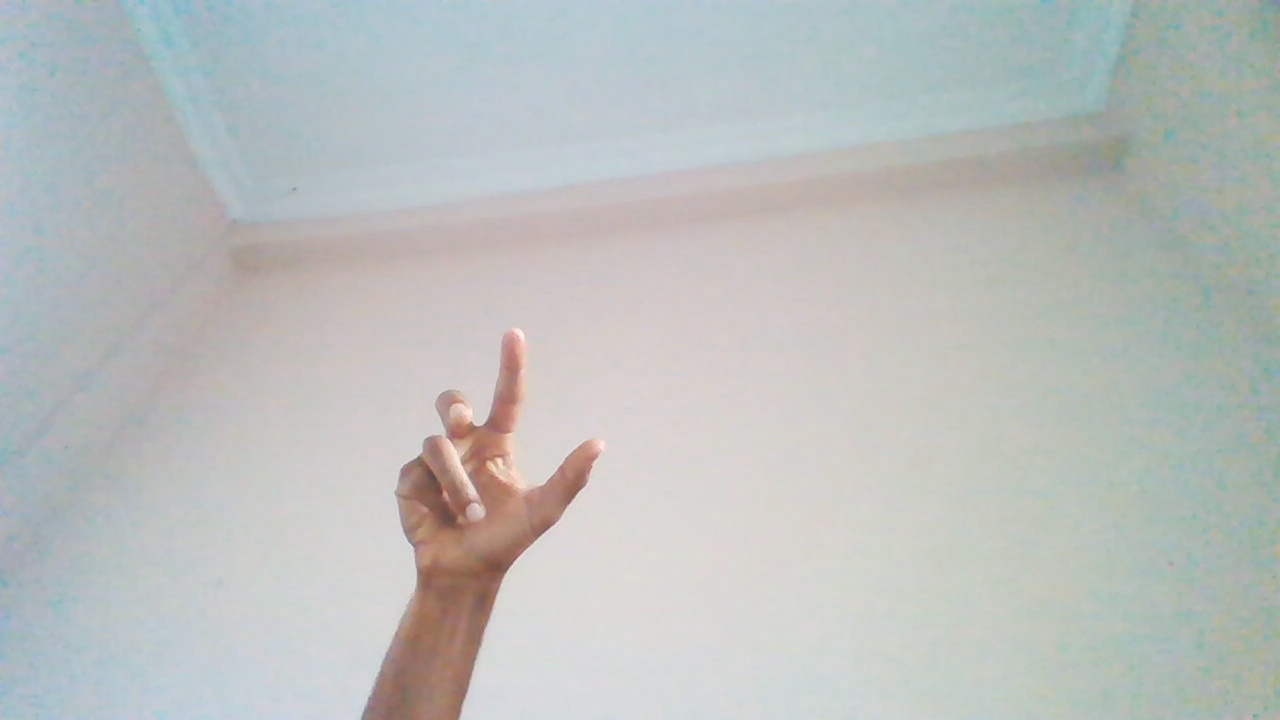hhe: (389, 324, 604, 669)
